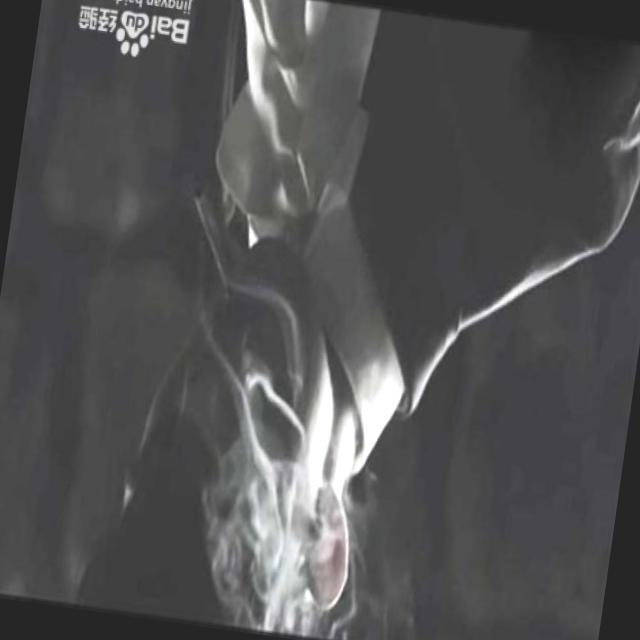smoke: (188, 184, 252, 271)
